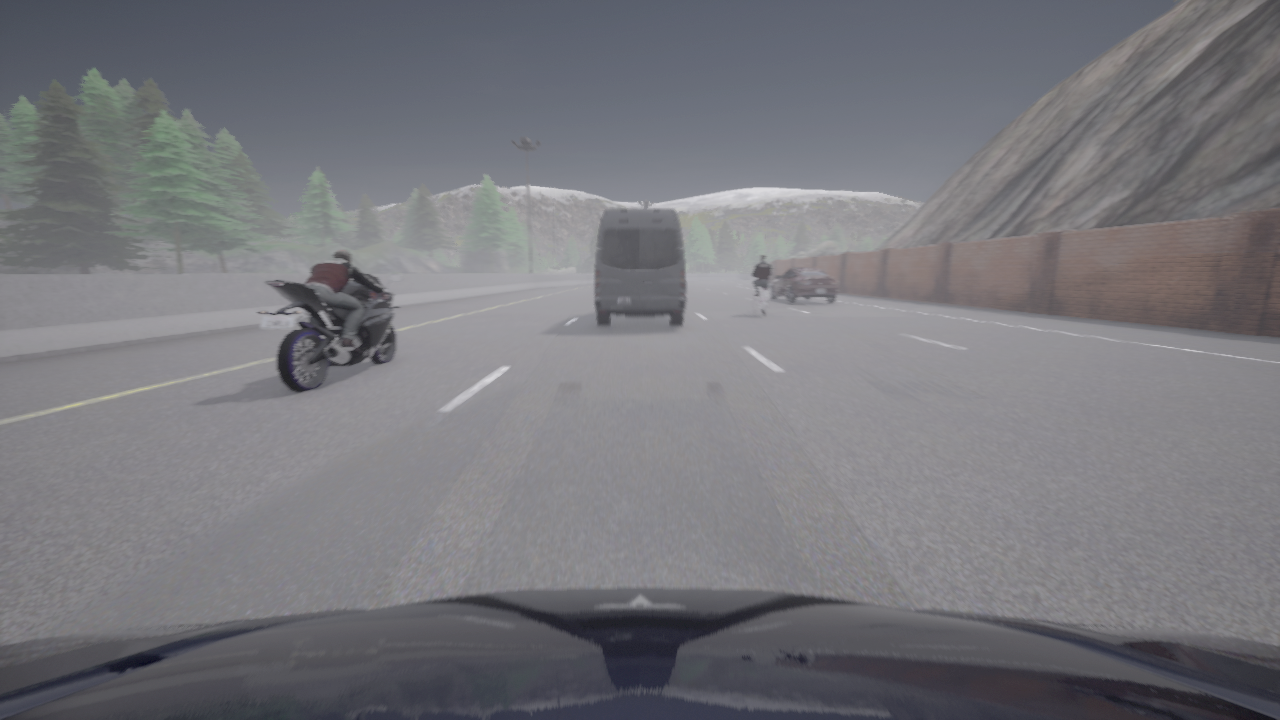cyclist: (0, 588, 1279, 719), (256, 272, 402, 392), (594, 209, 685, 325), (770, 268, 838, 303), (753, 288, 768, 316)
